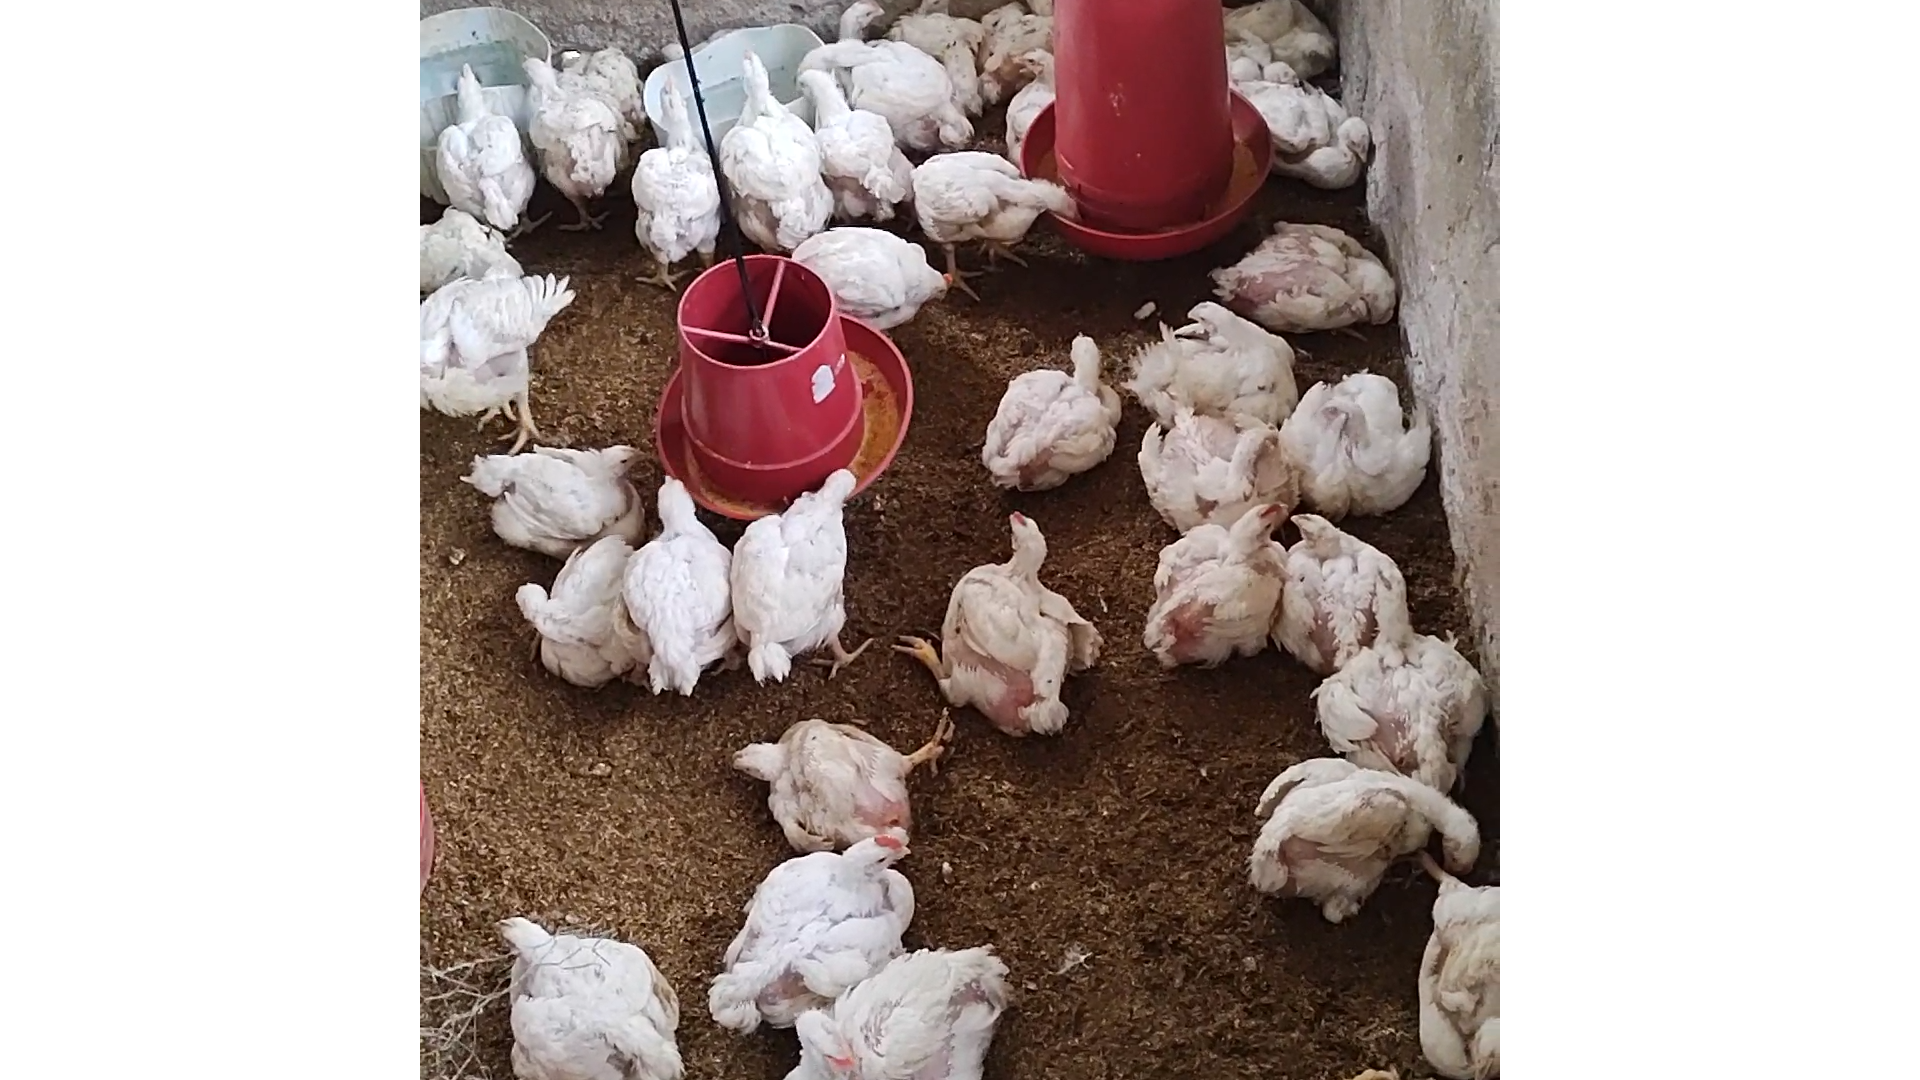Pollos: (705, 814, 931, 1029), (1230, 737, 1481, 911), (926, 504, 1112, 731), (480, 902, 680, 1080), (775, 934, 1007, 1080), (735, 447, 868, 684), (616, 468, 750, 694), (711, 727, 947, 851), (1211, 207, 1406, 343), (425, 268, 578, 440), (972, 318, 1133, 479), (1408, 847, 1516, 1080), (1142, 498, 1296, 662), (502, 531, 655, 696), (1271, 504, 1420, 667), (1317, 626, 1490, 766), (770, 214, 967, 336), (1273, 371, 1443, 508), (467, 436, 647, 563), (625, 67, 723, 298), (1127, 293, 1296, 413), (924, 142, 1085, 266), (793, 65, 915, 222), (1146, 392, 1282, 531), (400, 200, 553, 320), (725, 46, 811, 257), (435, 55, 537, 225), (510, 61, 625, 204), (843, 34, 971, 152), (1237, 78, 1374, 186), (1000, 44, 1085, 156), (800, 3, 913, 70), (965, 8, 1062, 79)
